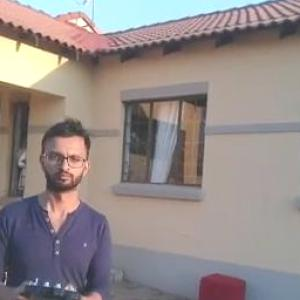follow: (0, 115, 115, 299)
